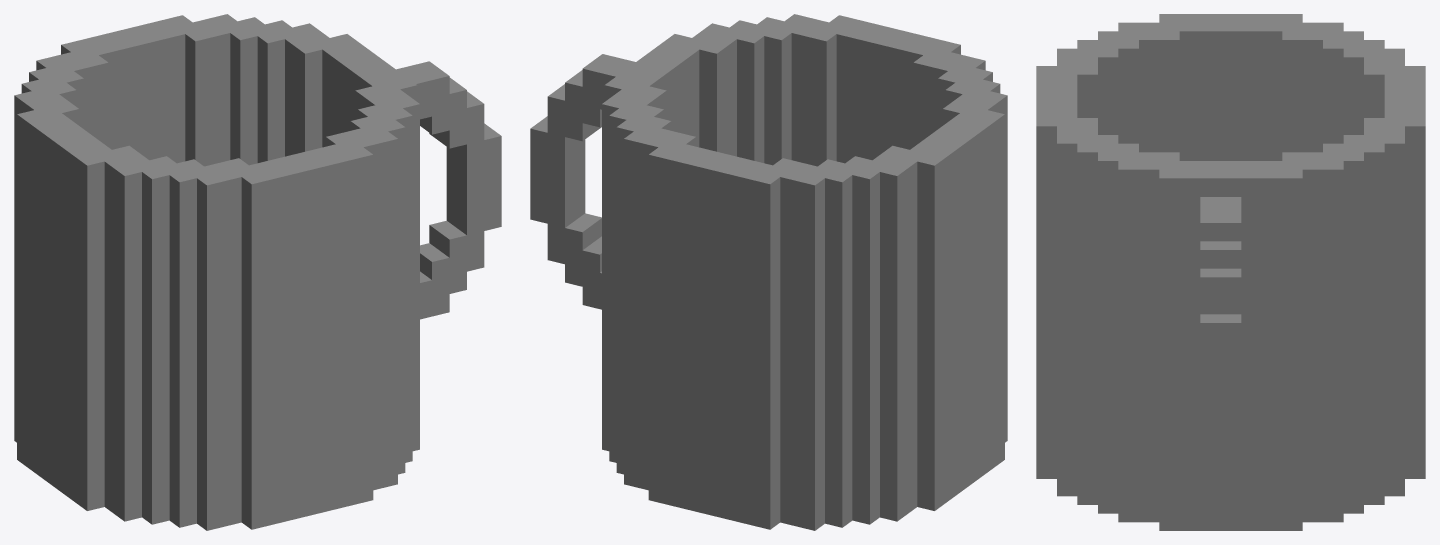
The model's file is beer-1.obj.
3 views of the same model, side by side, from view 1: azimuth 30°, elevation 25°; view 2: azimuth 150°, elevation 25°; view 3: azimuth 270°, elevation 25° (orthographic). The views are drawn at different scales.
Size of the model in its own units: 2.5 by 1.9 by 1.9.
1 material, 1 textured.
